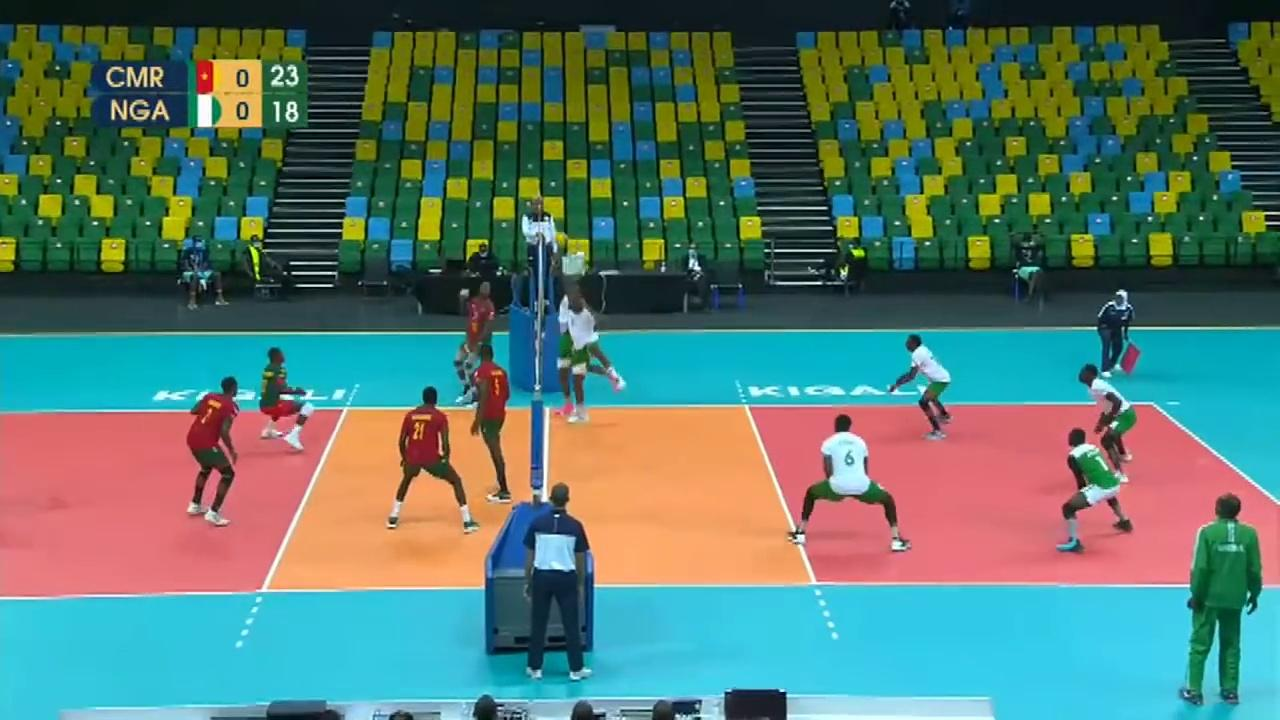player: (792, 413, 915, 552), (388, 387, 479, 530), (180, 377, 242, 524), (556, 286, 624, 417), (1071, 364, 1154, 465), (1060, 429, 1130, 548), (459, 342, 511, 499), (888, 336, 953, 439), (566, 280, 611, 425), (258, 347, 310, 449), (456, 281, 499, 403)
refree: (509, 480, 599, 687), (519, 191, 561, 295), (1098, 287, 1136, 375)
